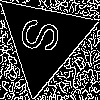S: (19, 15, 70, 58)
